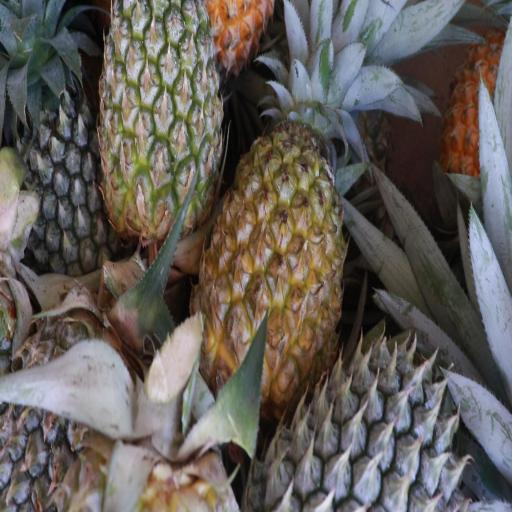------------------------------: (100, 1, 220, 241)
Pineapple - v8 v1: (204, 110, 354, 395), (442, 35, 512, 189)
